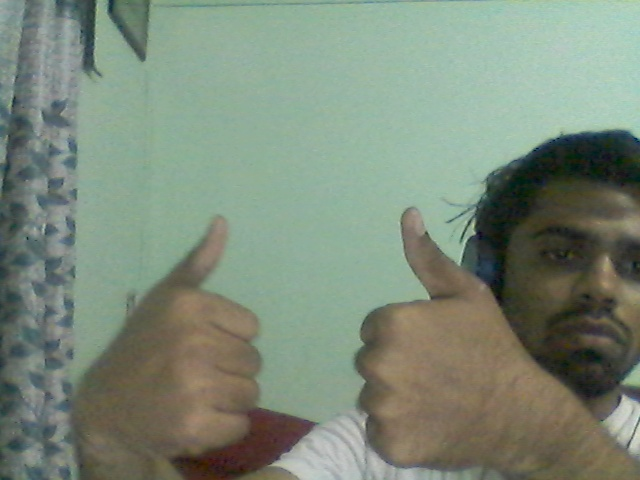Thank You: (59, 184, 558, 480)
